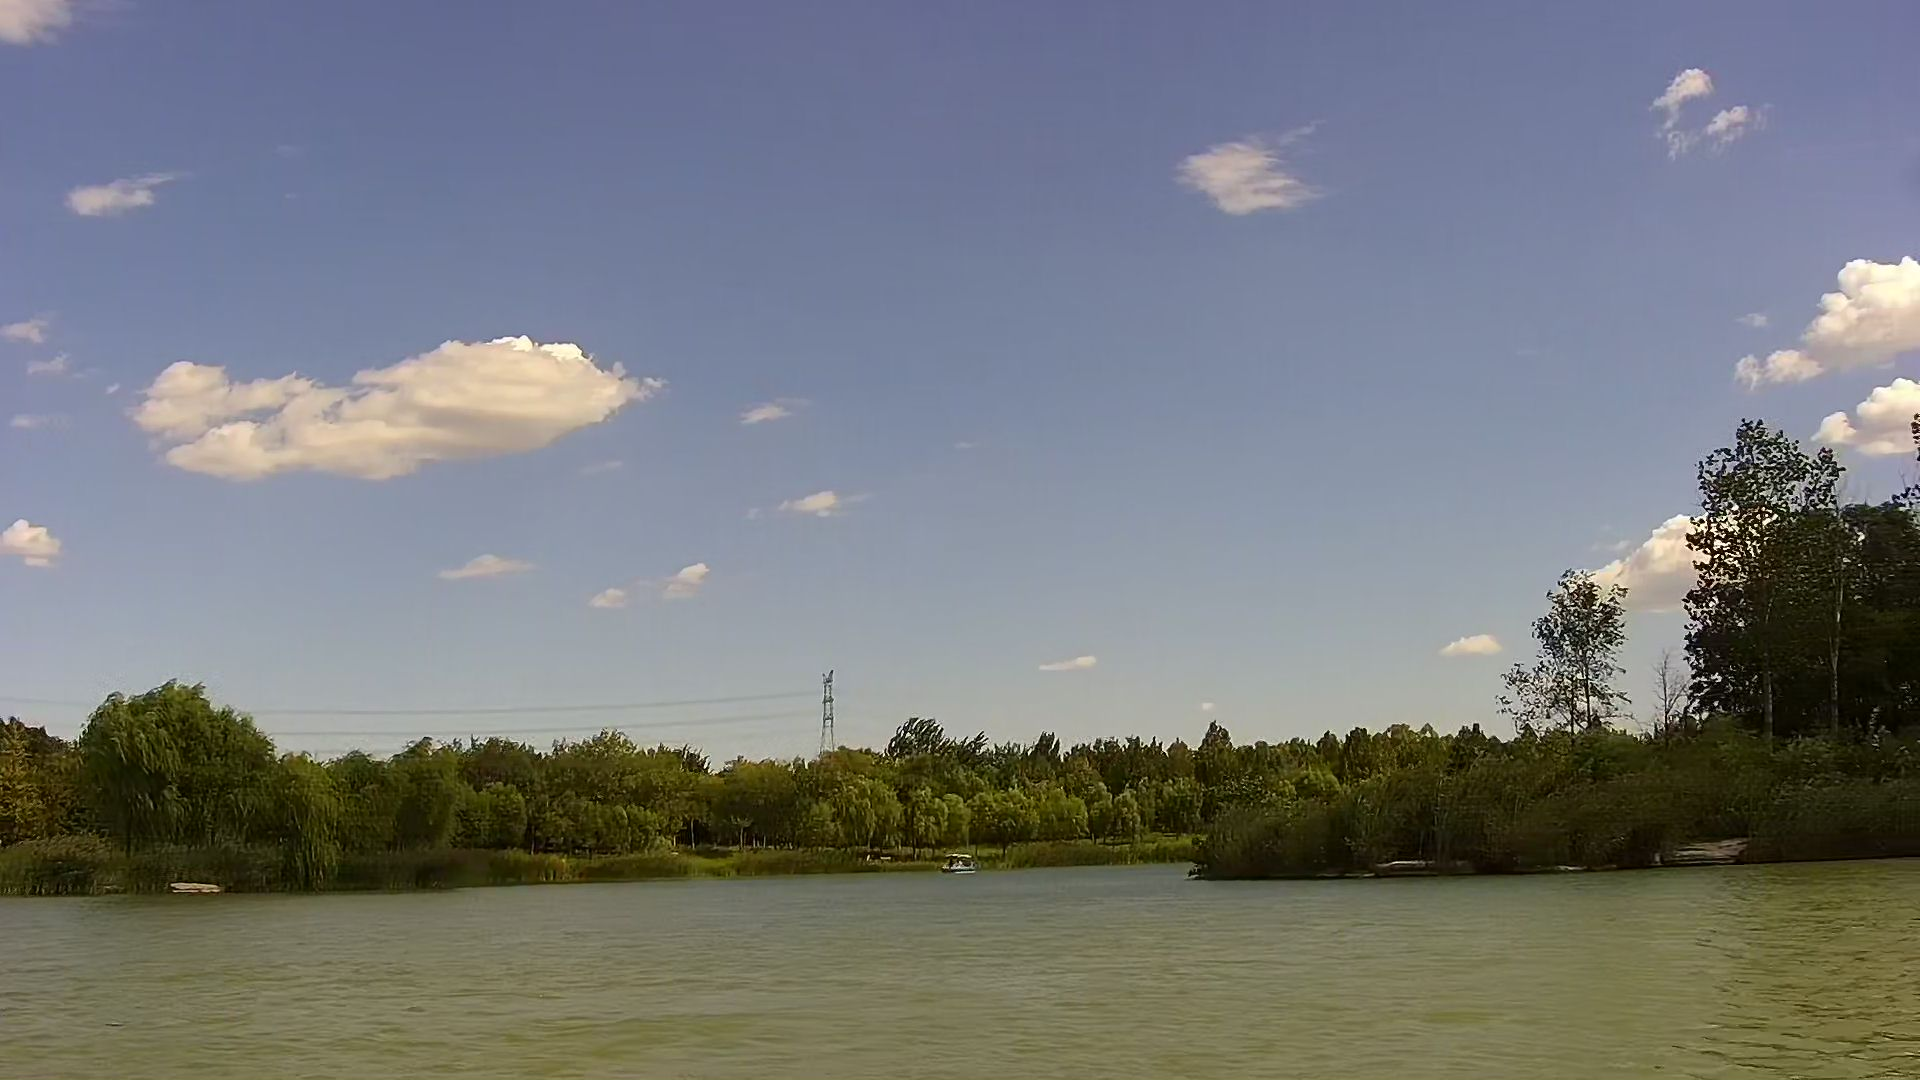boat: (935, 851, 980, 880)
rock: (1662, 839, 1743, 872), (1375, 858, 1435, 880), (171, 878, 212, 901)
